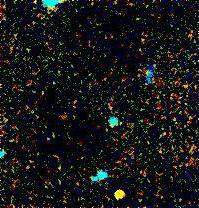star: (103, 181, 133, 208)
